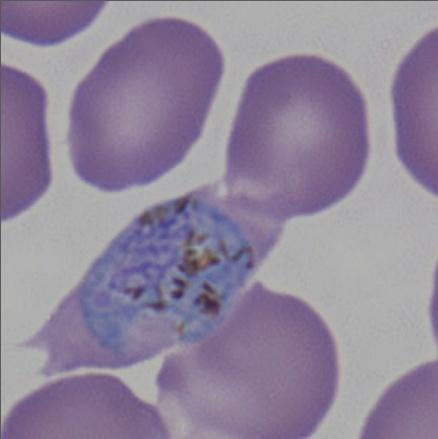Infected: (145, 63, 415, 259)
Uninfected: (100, 0, 281, 155), (214, 247, 372, 420), (68, 217, 208, 384)
